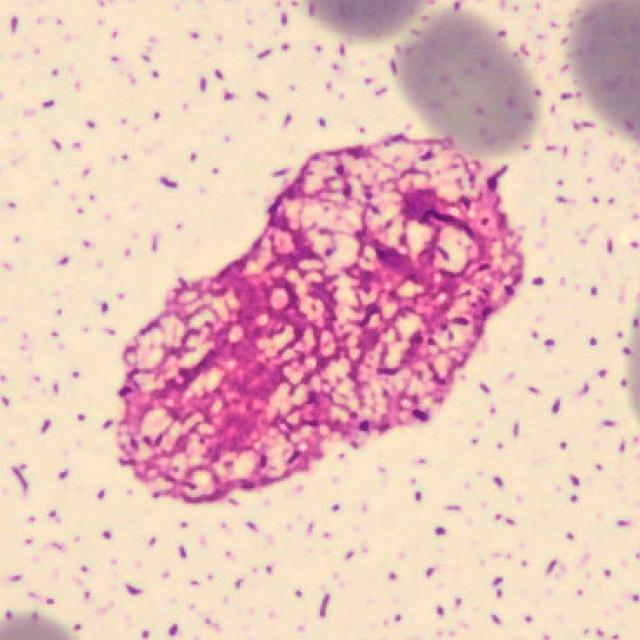Artefato: (113, 136, 525, 504)
